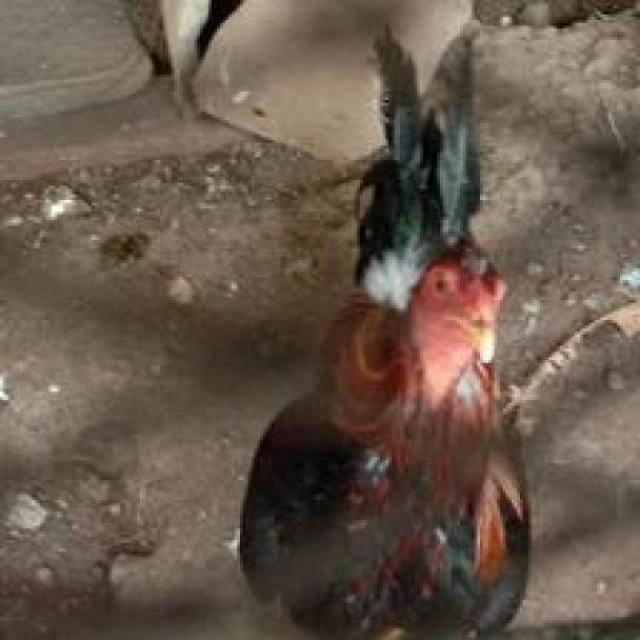Chicken: (241, 16, 584, 640)
